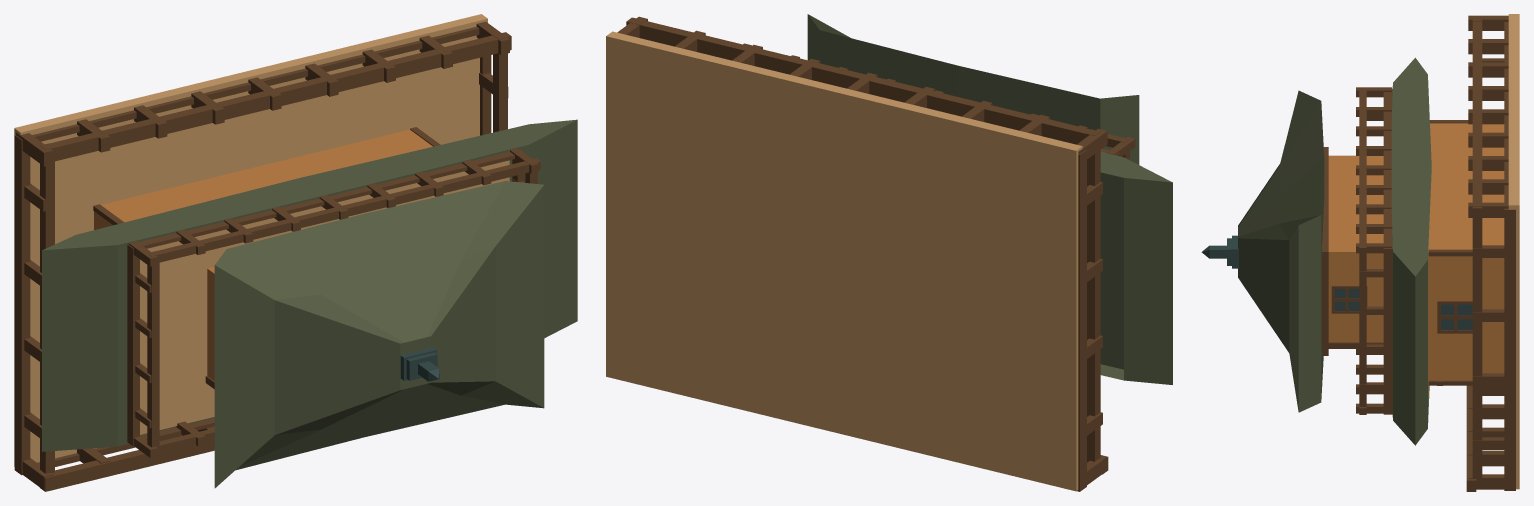
3 views of the same model, side by side, from view 1: azimuth 30°, elevation 25°; view 2: azimuth 150°, elevation 25°; view 3: azimuth 270°, elevation 25° (orthographic). The views are drawn at different scales.
Visible parts, largest first — view 1: Cube, Cube.003, Cube.005, Cube.002, Cube.026, Cube.029, Cube.004, Cube.006, Cube.028, Cube.021, Cube.019, Cube.034 (+9 smaller); view 2: Cube.005, Cube.003, Cube, Cube.029, Cube.030, Cube.026, Cube.028, Cube.032; view 3: Cube, Cube.003, Cube.004, Cube.001, Cube.028, Cube.026, Cube.005, Cube.006, Cube.031, Cube.019, Cube.029, Cube.027 (+9 smaller).
Part boxes in pixels (box(x1,y1,x2,y2)): Cube: box(214, 181, 544, 488); Cube.003: box(42, 119, 577, 451); Cube.005: box(14, 14, 487, 466); Cube.002: box(140, 160, 509, 434); Cube.026: box(14, 26, 491, 475); Cube.029: box(50, 32, 511, 161); Cube.004: box(94, 129, 432, 229); Cube.006: box(127, 149, 524, 445); Cube.028: box(16, 21, 509, 166); Cube.021: box(155, 158, 540, 262); Cube.019: box(128, 148, 538, 266); Cube.034: box(39, 440, 214, 491); Cube.005: box(606, 31, 1082, 491); Cube.003: box(1100, 151, 1172, 384); Cube: box(807, 14, 1139, 164); Cube.029: box(626, 17, 1090, 144); Cube.030: box(1085, 129, 1100, 462); Cube.026: box(1077, 149, 1086, 491); Cube.028: box(617, 16, 1107, 159); Cube.032: box(1087, 182, 1102, 435); Cube: box(1238, 90, 1324, 412); Cube.003: box(1391, 57, 1431, 445); Cube.004: box(1428, 123, 1504, 393); Cube.001: box(1321, 147, 1383, 355); Cube.028: box(1468, 15, 1508, 217); Cube.026: box(1504, 22, 1515, 490); Cube.005: box(1508, 14, 1519, 489); Cube.006: box(1383, 88, 1392, 414); Cube.031: box(1472, 202, 1482, 486); Cube.019: box(1356, 87, 1391, 253); Cube.029: box(1472, 21, 1482, 219); Cube.027: box(1468, 386, 1504, 489).
Bounding box in the file's own units: 6.68 × 4.06 × 4.1.
